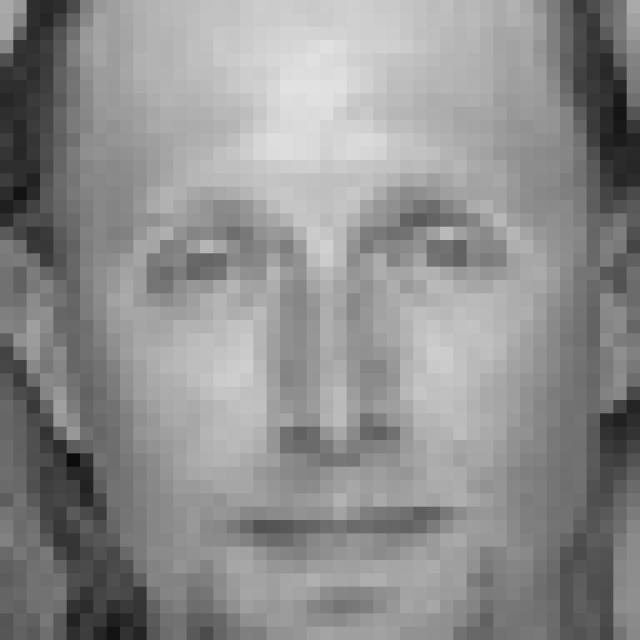neutral: (134, 182, 521, 585)
